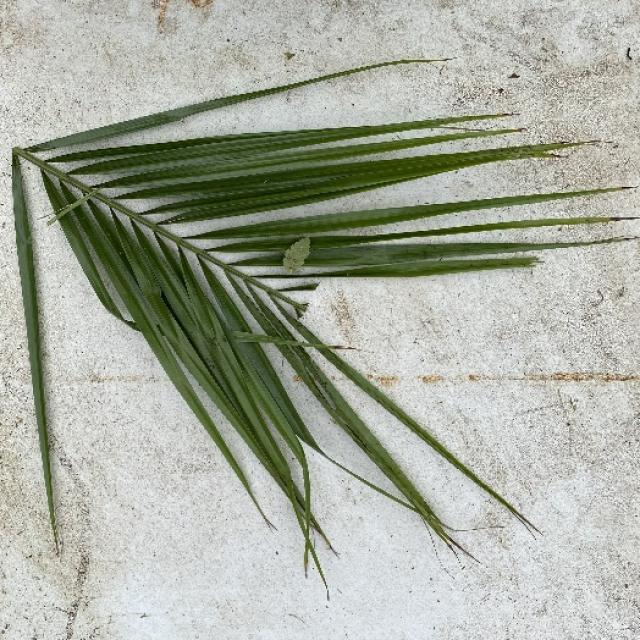organik: (37, 67, 550, 574)
